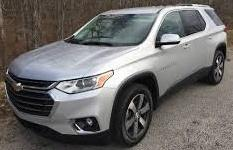SUV: (6, 5, 226, 145)
